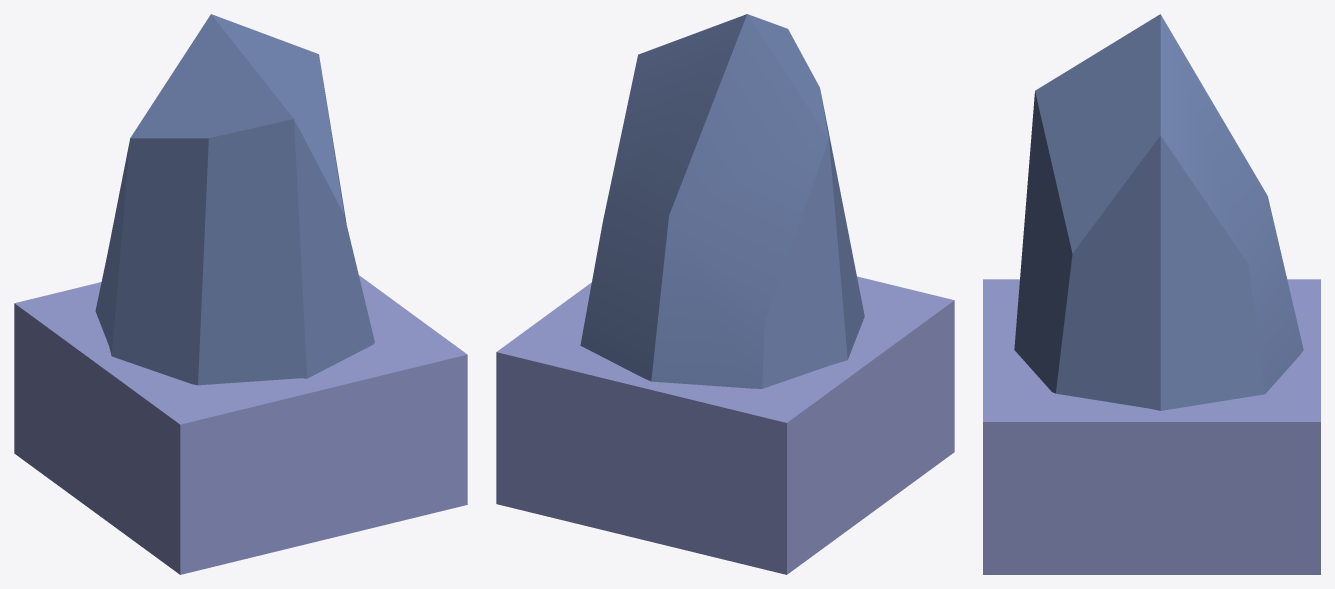
The model's file is rockLarge.fbx.
The picture shows the model from 3 angles, left to right: view 1: azimuth 30°, elevation 25°; view 2: azimuth 150°, elevation 25°; view 3: azimuth 270°, elevation 25°; orthographic projection.
Visible parts, largest first — view 1: rockLarge; view 2: rockLarge; view 3: rockLarge.
Part boxes in pixels (left/top/right/bottom): rockLarge: left=14, top=14, right=467, bottom=574; rockLarge: left=496, top=14, right=954, bottom=574; rockLarge: left=983, top=14, right=1320, bottom=574.
Size of the model in its own units: 200 by 312 by 200.
